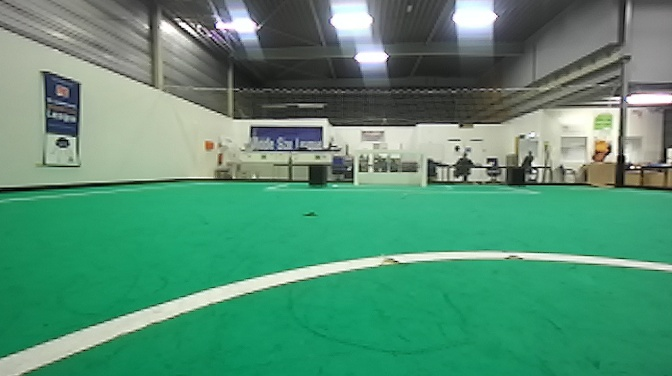goalpost: (418, 146, 430, 187), (352, 151, 359, 182)
